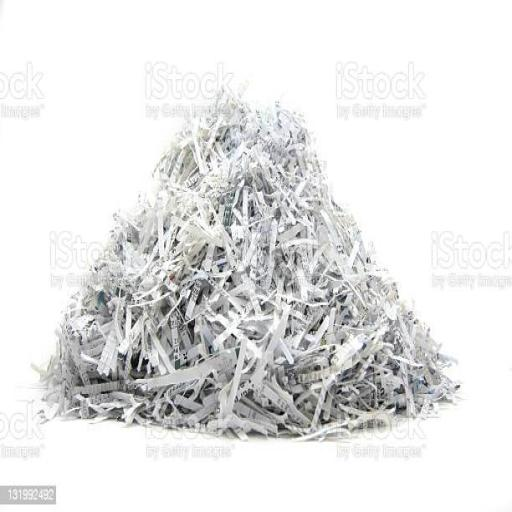Kertas: (44, 61, 463, 440)
